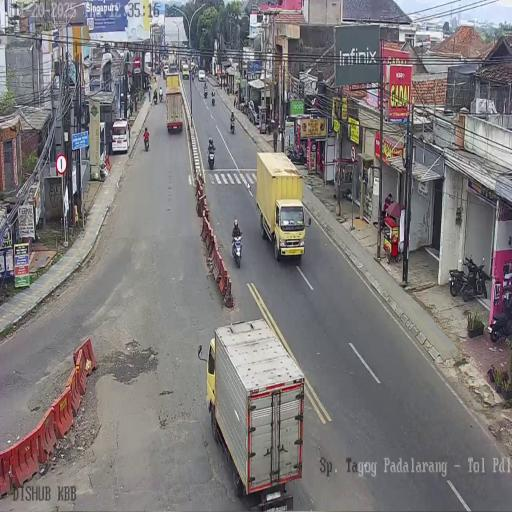3: (201, 317, 302, 508), (255, 150, 305, 263), (165, 72, 184, 133), (144, 52, 152, 73)
car: (110, 118, 130, 154), (247, 99, 259, 124), (169, 60, 177, 74), (182, 64, 189, 79), (198, 69, 205, 82), (163, 64, 169, 76)
truck: (488, 287, 512, 342), (461, 254, 488, 302), (286, 143, 306, 166), (232, 233, 243, 269), (207, 143, 215, 170), (239, 98, 249, 115), (230, 115, 235, 134), (144, 133, 149, 151), (153, 92, 158, 105), (204, 86, 208, 98), (211, 93, 215, 105), (148, 86, 151, 102), (156, 65, 160, 75), (160, 90, 163, 102), (192, 72, 194, 82)
